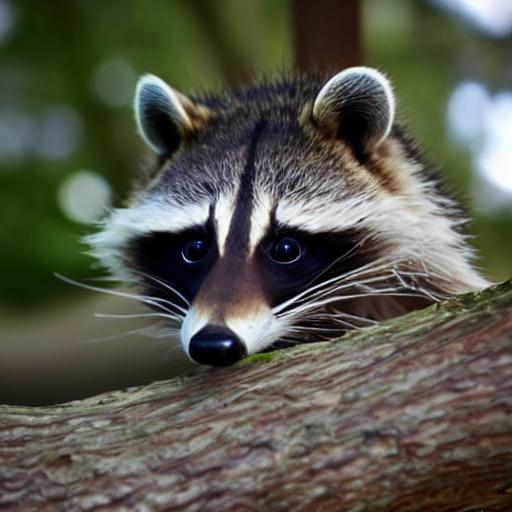raccoon: (78, 53, 497, 375)
